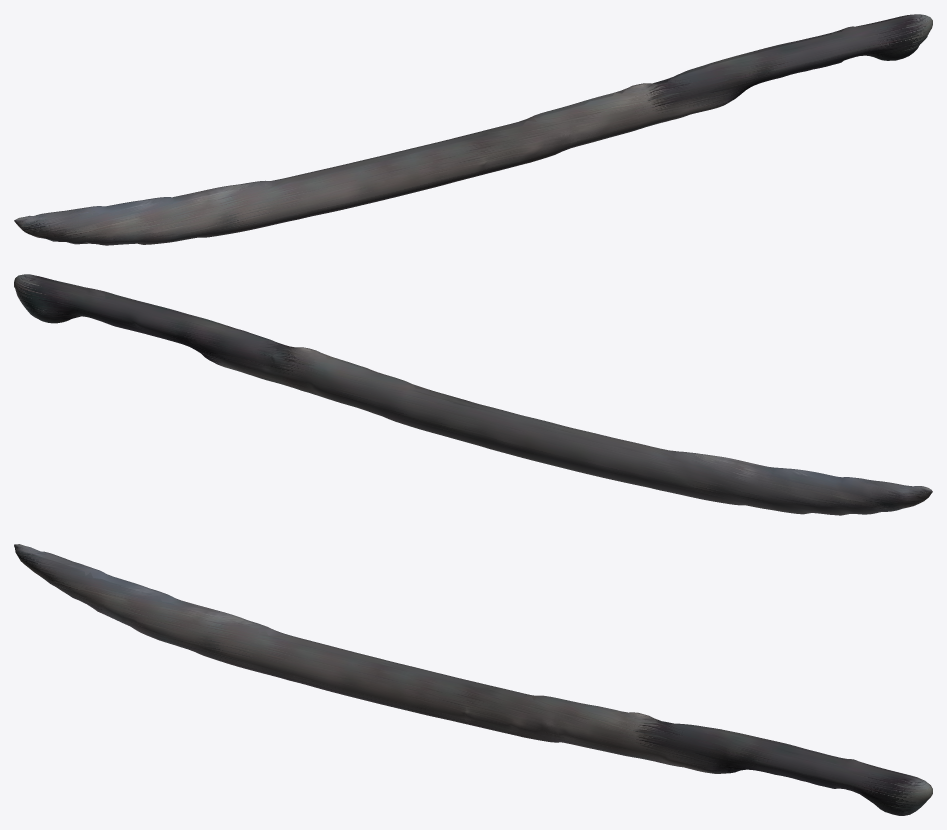
The model's file is kfl-2267.glb.
The picture shows the model from 3 angles, top to bottom: view 1: azimuth 30°, elevation 25°; view 2: azimuth 150°, elevation 25°; view 3: azimuth 330°, elevation 25°; orthographic projection.
Parts seen in each view (by area): view 1: geometry_0; view 2: geometry_0; view 3: geometry_0.
Part boxes in pixels (bbox=[...]): geometry_0: bbox=[14, 14, 932, 245]; geometry_0: bbox=[14, 274, 932, 515]; geometry_0: bbox=[14, 544, 932, 815].
Size of the model in its own units: 0.9851 by 0.069 by 0.0416.
Materials: 1 (1 with a texture image).
